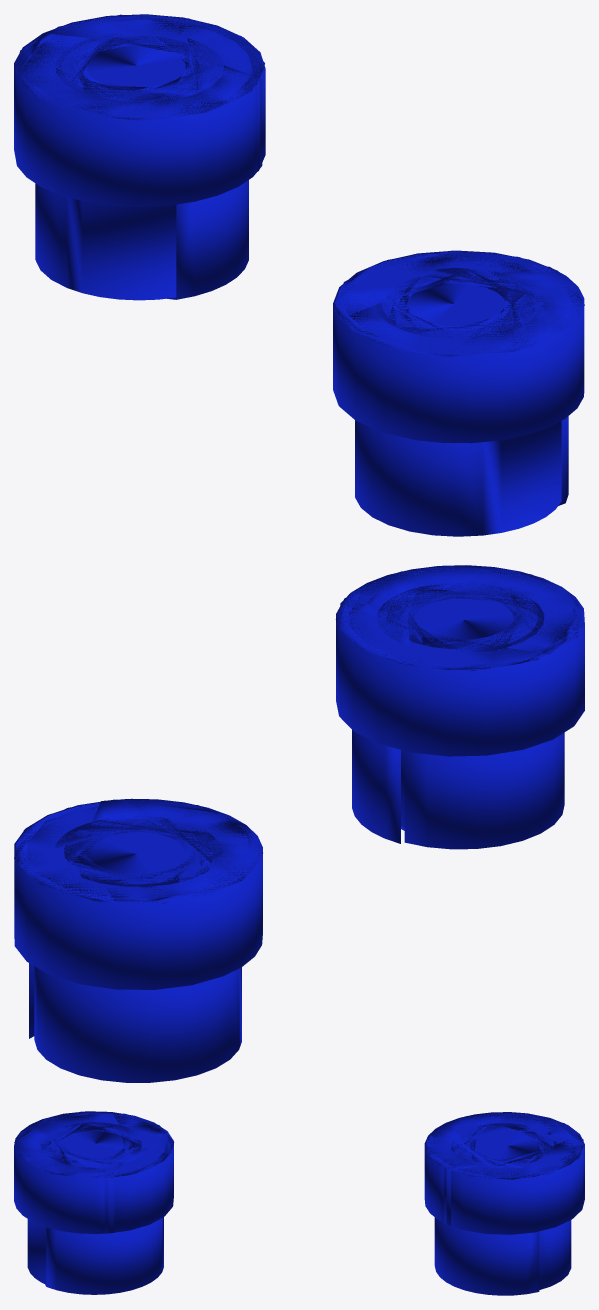
File: tuyeau_element_000083.obj
3 views of the same model, one above another, from view 1: azimuth 30°, elevation 25°; view 2: azimuth 150°, elevation 25°; view 3: azimuth 270°, elevation 25° (orthographic). The views are drawn at different scales.
Visible parts, largest first — view 1: tuyeau1_Cube.014, tuyeau2_Cube.017; view 2: tuyeau2_Cube.017, tuyeau1_Cube.014; view 3: tuyeau1_Cube.014, tuyeau2_Cube.017.
Boxes of the visible parts, left/top/right/bottom form: tuyeau1_Cube.014: left=14, top=14, right=265, bottom=300; tuyeau2_Cube.017: left=333, top=250, right=584, bottom=536; tuyeau2_Cube.017: left=335, top=565, right=584, bottom=849; tuyeau1_Cube.014: left=14, top=798, right=262, bottom=1082; tuyeau1_Cube.014: left=424, top=1112, right=584, bottom=1295; tuyeau2_Cube.017: left=14, top=1111, right=174, bottom=1294.
Bounding box in the file's own units: 3560 × 2917 × 12545.
